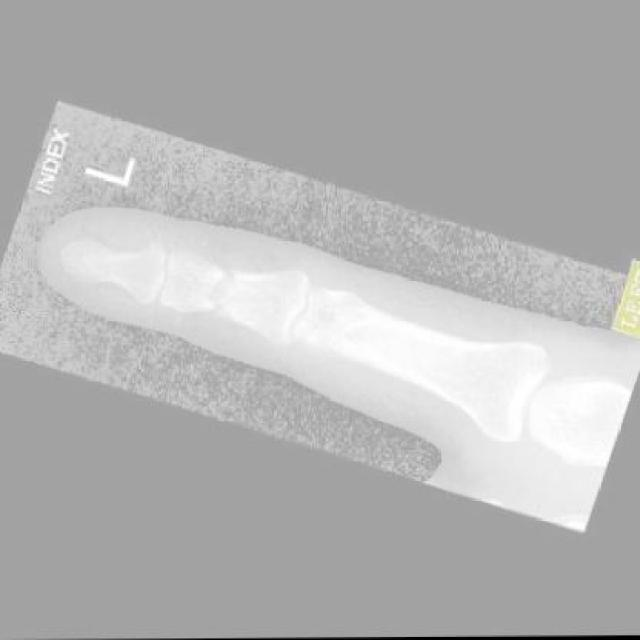Fracture: (193, 263, 256, 331)
